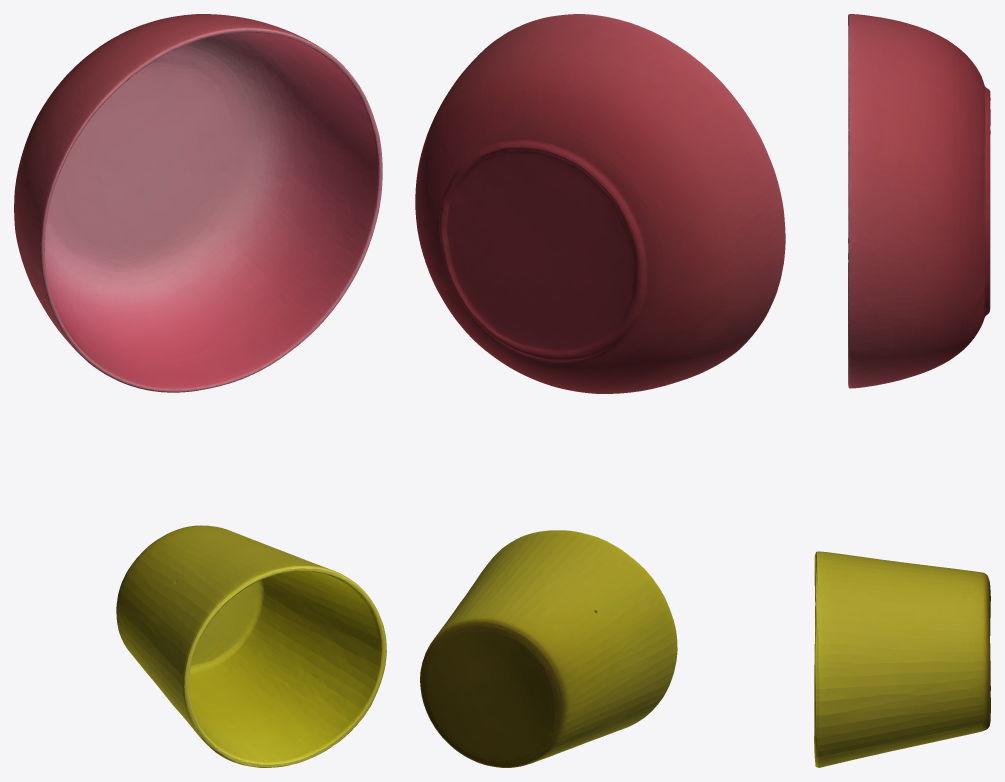
3 views of the same model, side by side, from view 1: azimuth 30°, elevation 25°; view 2: azimuth 150°, elevation 25°; view 3: azimuth 270°, elevation 25° (orthographic). The views are drawn at different scales.
Parts seen in each view (by area): view 1: image_0000_segmented_geometry_0, image_0001_segmented_geometry_0; view 2: image_0000_segmented_geometry_0, image_0001_segmented_geometry_0; view 3: image_0000_segmented_geometry_0, image_0001_segmented_geometry_0.
Part boxes in pixels (x1,y1,x2,y2): image_0000_segmented_geometry_0: (14, 14, 382, 392); image_0001_segmented_geometry_0: (116, 525, 386, 767); image_0000_segmented_geometry_0: (415, 14, 785, 393); image_0001_segmented_geometry_0: (420, 530, 677, 767); image_0000_segmented_geometry_0: (848, 14, 990, 388); image_0001_segmented_geometry_0: (814, 551, 990, 767).
Bounding box in the file's own units: 0.1734 × 0.3573 × 0.0822.
2 materials, 2 textured.
